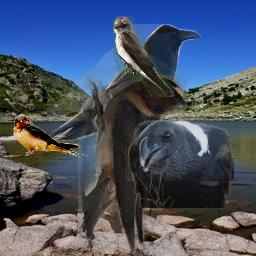Crow: (46, 24, 201, 153), (128, 119, 234, 208)
Swallow: (78, 75, 187, 253), (113, 16, 174, 97), (12, 114, 88, 160)
